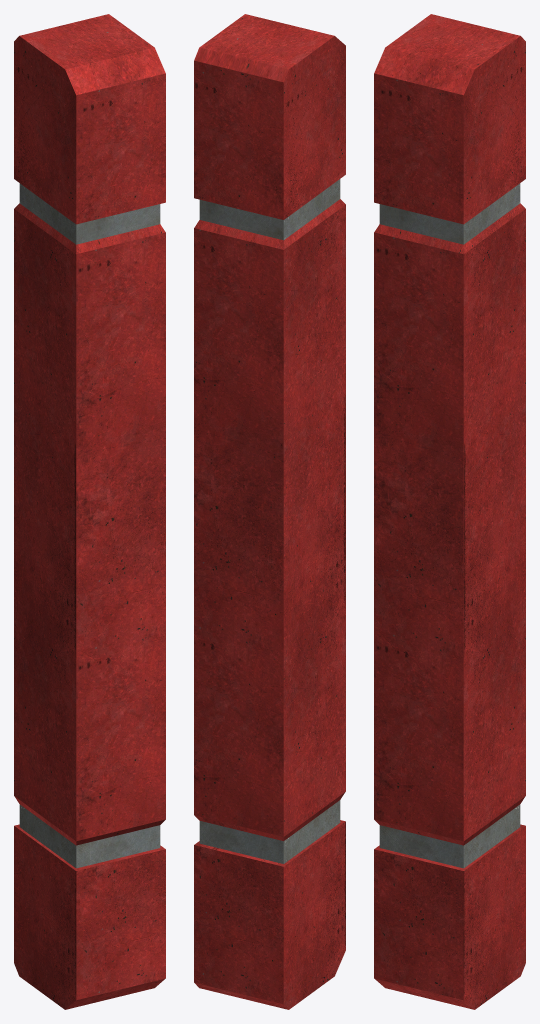
Rendered from Ob_ScafDetail3_RC.fbx.
3 views of the same model, side by side, from view 1: azimuth 30°, elevation 25°; view 2: azimuth 150°, elevation 25°; view 3: azimuth 330°, elevation 25° (orthographic).
Parts seen in each view (by area): view 1: Ob_ScafDetail3_RC; view 2: Ob_ScafDetail3_RC; view 3: Ob_ScafDetail3_RC.
Part boxes in pixels (x1=…): Ob_ScafDetail3_RC: x1=14, y1=14, x2=165, y2=1009; Ob_ScafDetail3_RC: x1=194, y1=14, x2=345, y2=1009; Ob_ScafDetail3_RC: x1=374, y1=14, x2=525, y2=1009.
Size of the model in its own units: 473 by 4737 by 567.
